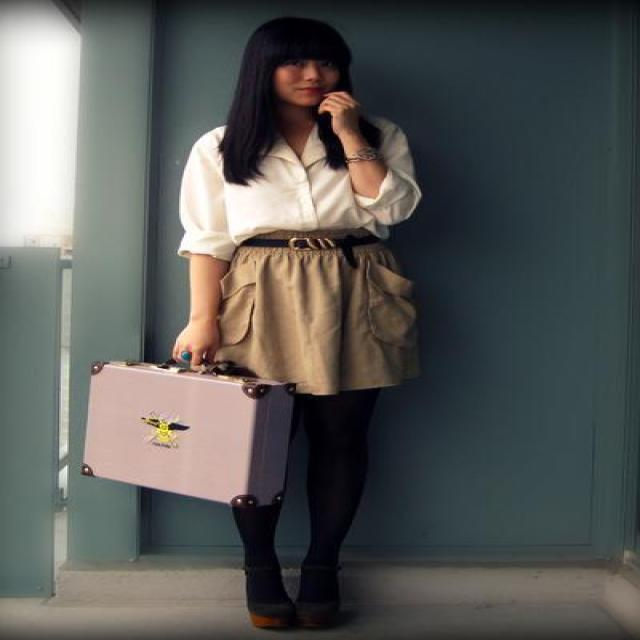bag: (59, 360, 306, 506)
shirt: (178, 121, 420, 268)
shoe: (254, 590, 358, 632)
skirt: (198, 226, 420, 394)
